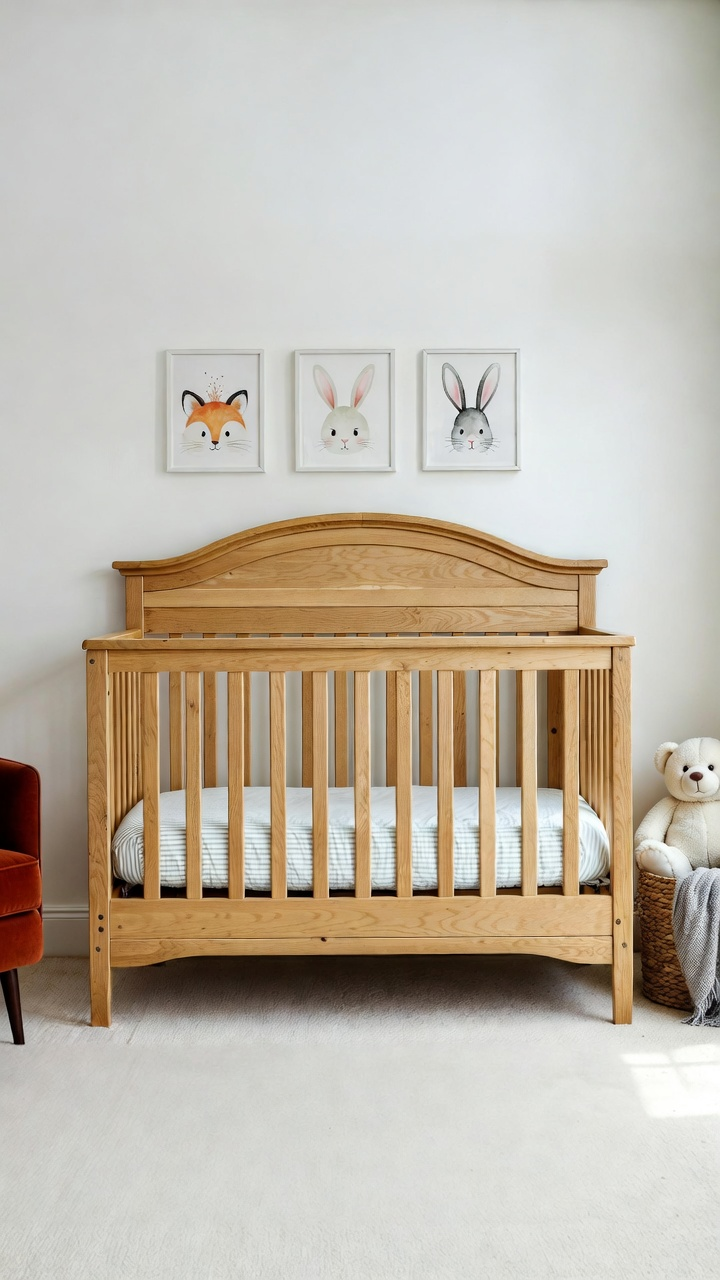crib: (82, 510, 637, 1027)
